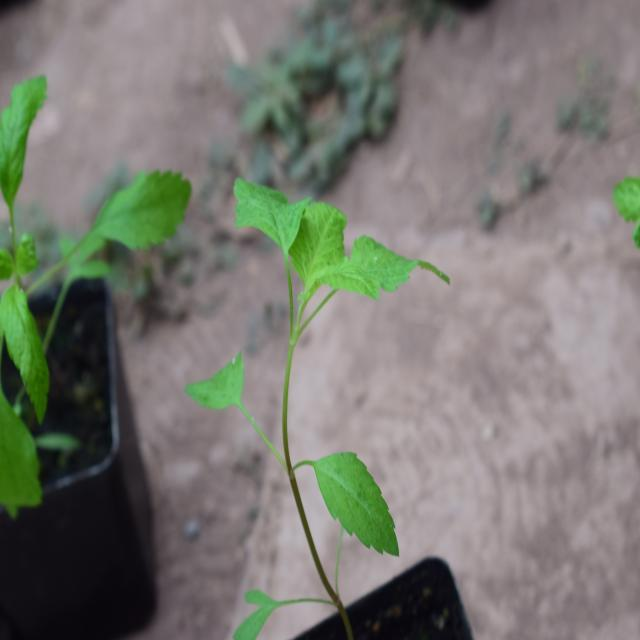Bidens pilosa: (189, 152, 438, 555)
